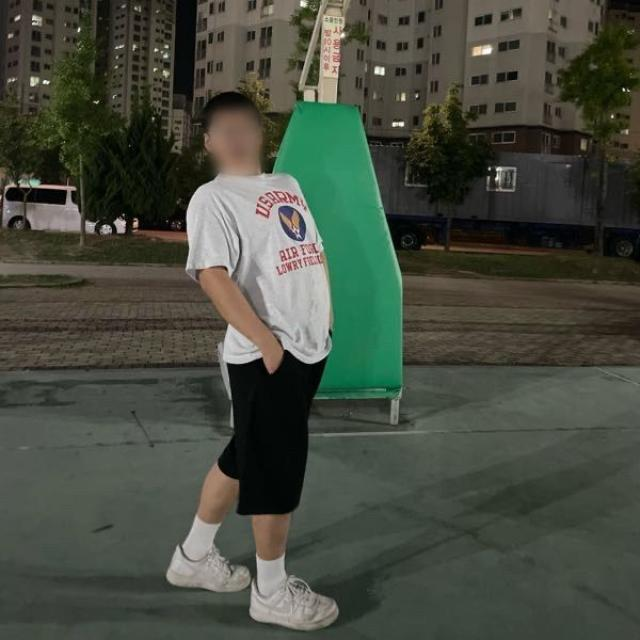shortpants: (217, 342, 330, 520)
shortsleeve: (182, 163, 342, 370)
